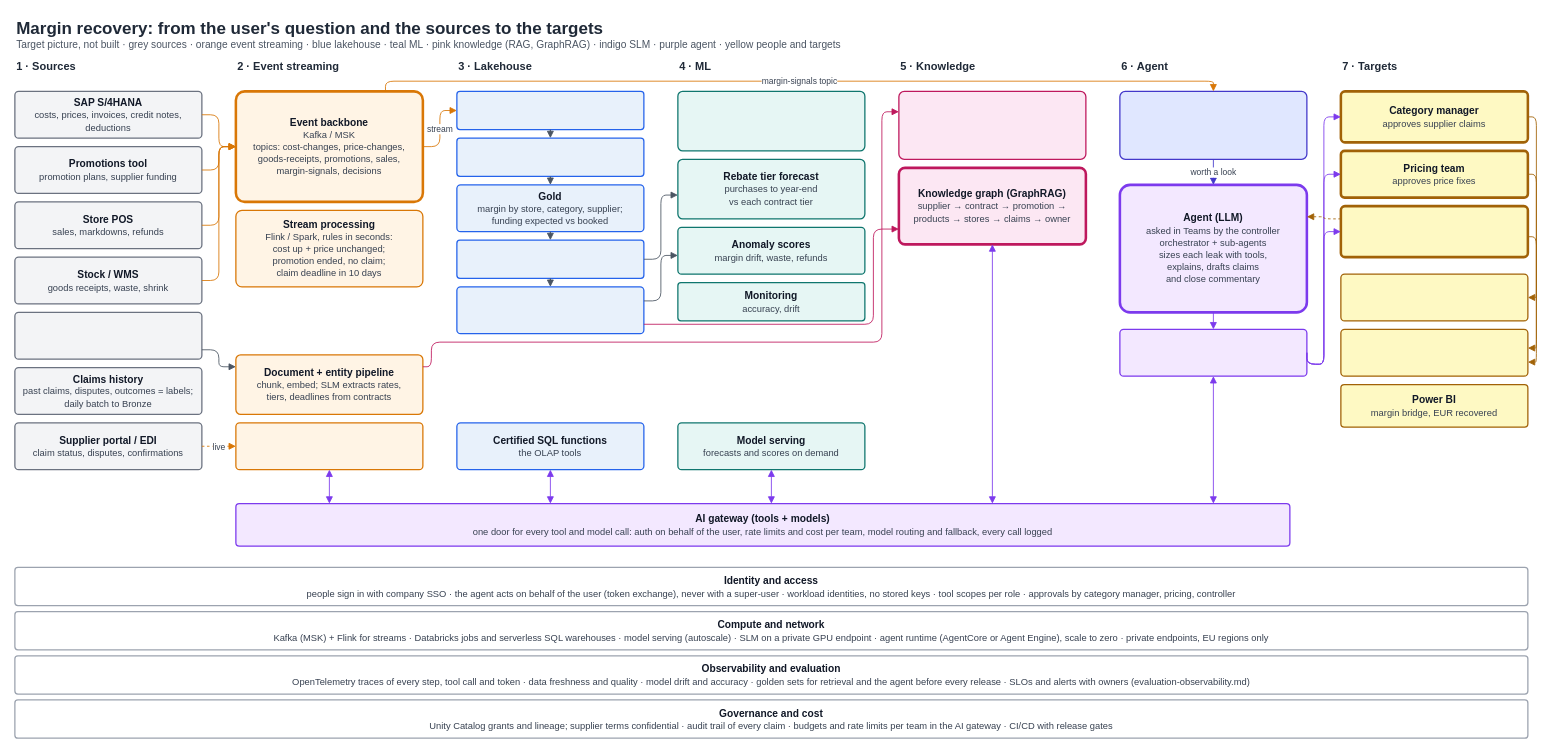
This 1560x753 diagram has some shape labels left out. The shapes that lost their labels are listed below. From the top down, each one's centre as x and y in pixels, then its label:
At (550,110): "Bronze events and files as they arrive".
At (771,120): "Margin forecast expected margin without leaks: the baseline".
At (992,125): "Vector index (RAG) contracts, promotion agreements, pricing and claim policy".
At (1213,125): "SLM triage ranks hundreds of signals, groups by supplier, drops trivia".
At (550,157): "Silver cleaned, conformed".
At (1434,231): "Financial controller approves accruals; margin commentary in the close".
At (550,259): "Feature tables offline + online".
At (550,310): "Graph tables supplier, contract, promotion, product, store, claim, owner".
At (1434,297): "Suppliers claims and deduction notices (EDI)".
At (108,335): "Contracts rebates, promotion agreements, side letters (PDF)".
At (1213,352): "Guardrails figure check, clause cited, no claim without evidence".
At (1434,352): "SAP (system of record) claims, price conditions, accruals".
At (329,446): "API gateway live reads: SAP, supplier portal".
